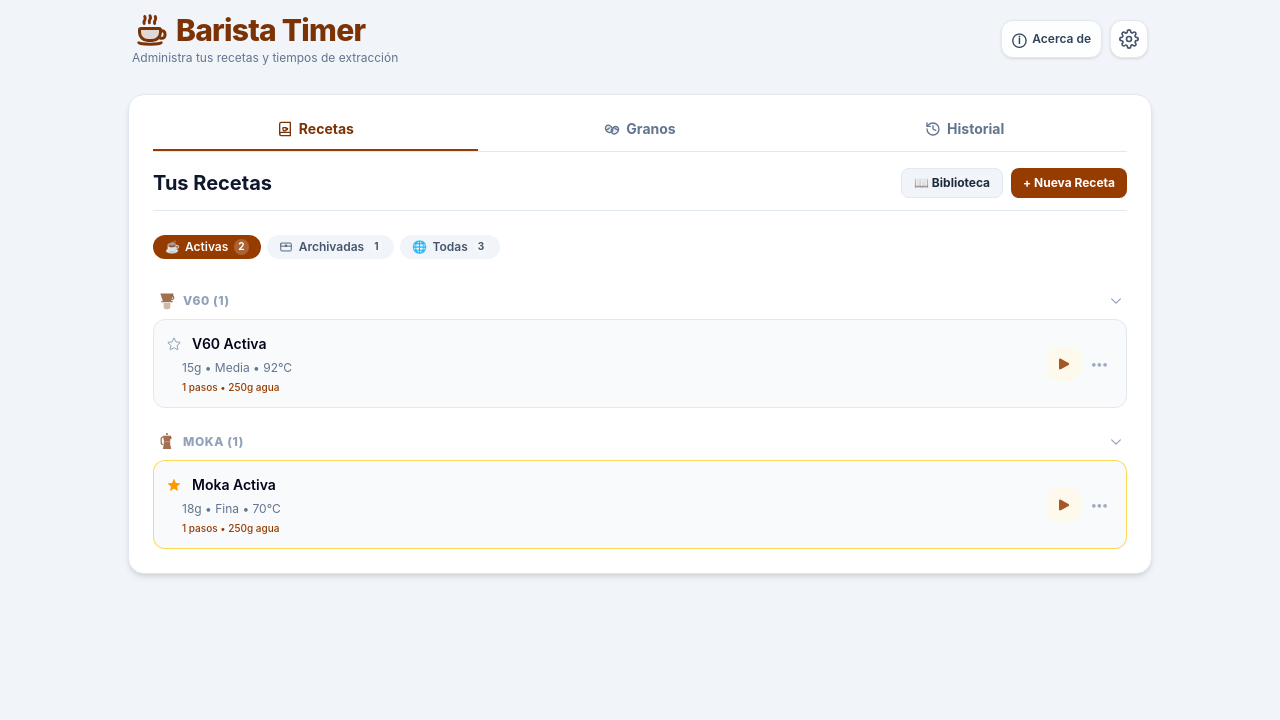
Sistema de Archivado de Recetas › App — Flujo de archivado integral › 12. El undo toast restaura inmediatamente la receta archivada
# Archivar la primera receta
Click the button titled "Más opciones" in the row of "92": (1099, 364) 1085,350 -> 1114,378
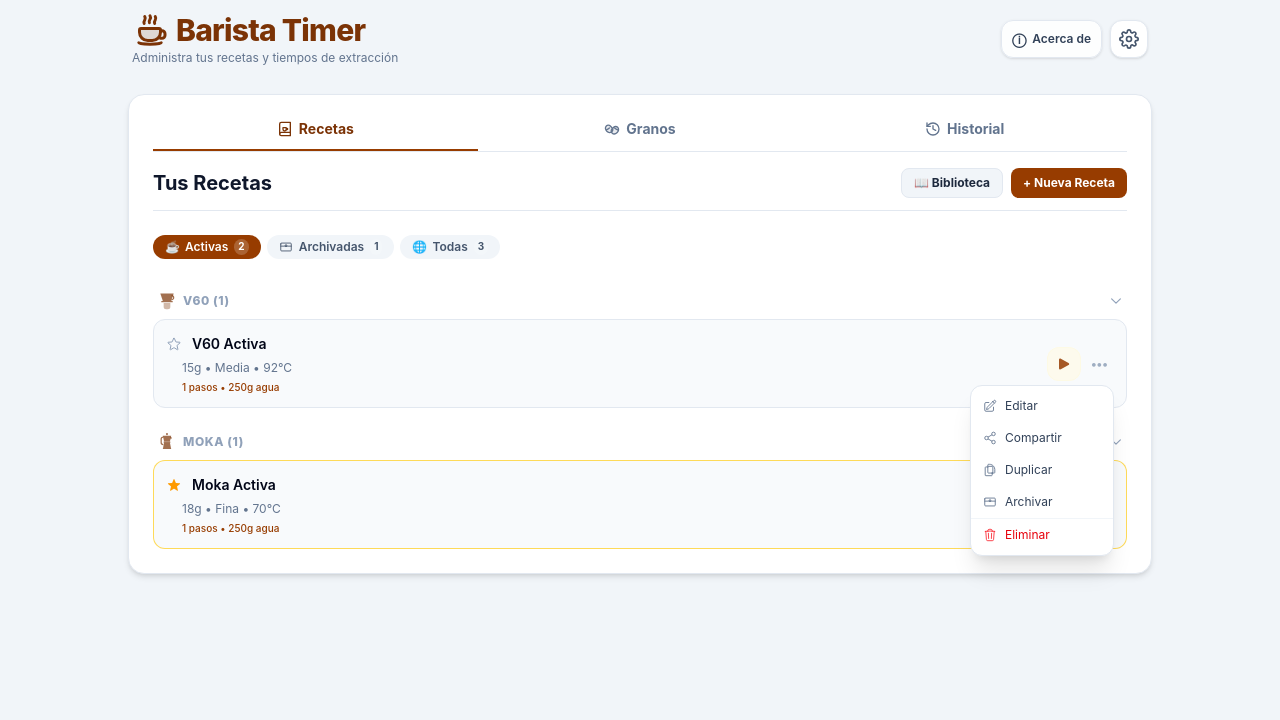
Click the button "Archivar": (1042, 502) 971,486 -> 1113,518
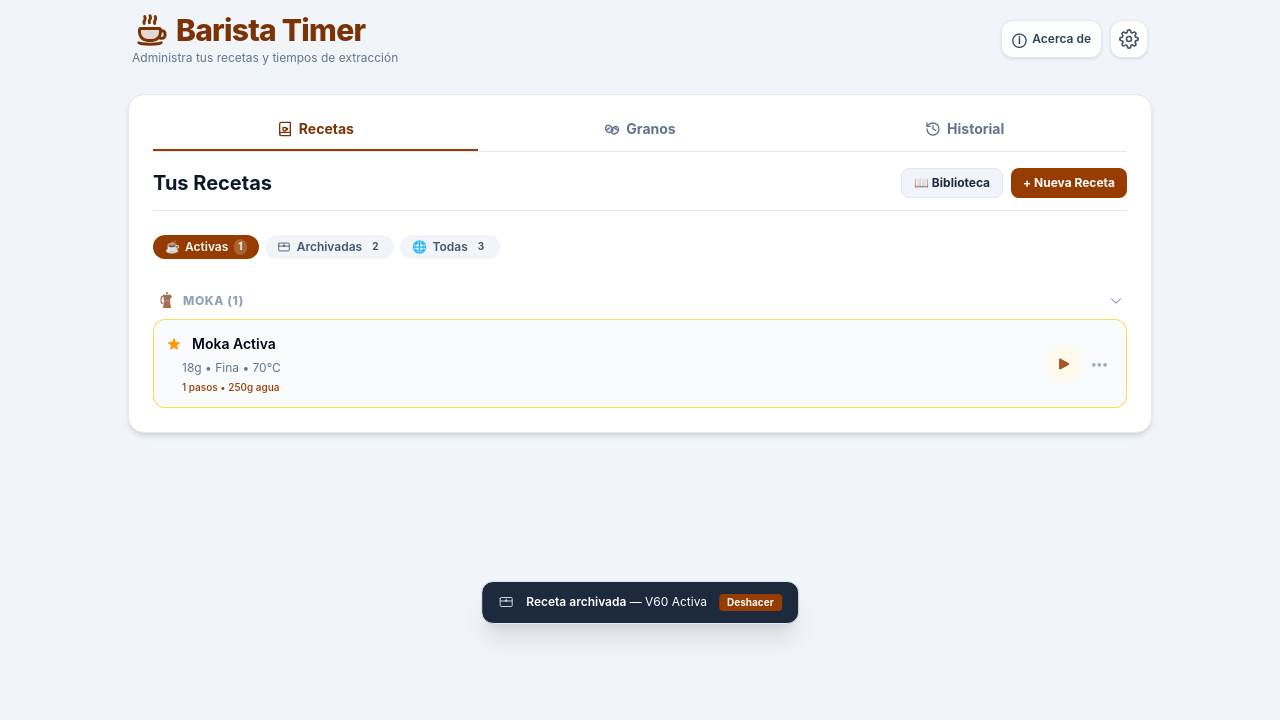
# Hacer clic en "Deshacer" en el toast
Click the button "Deshacer": (750, 602) 719,594 -> 782,611
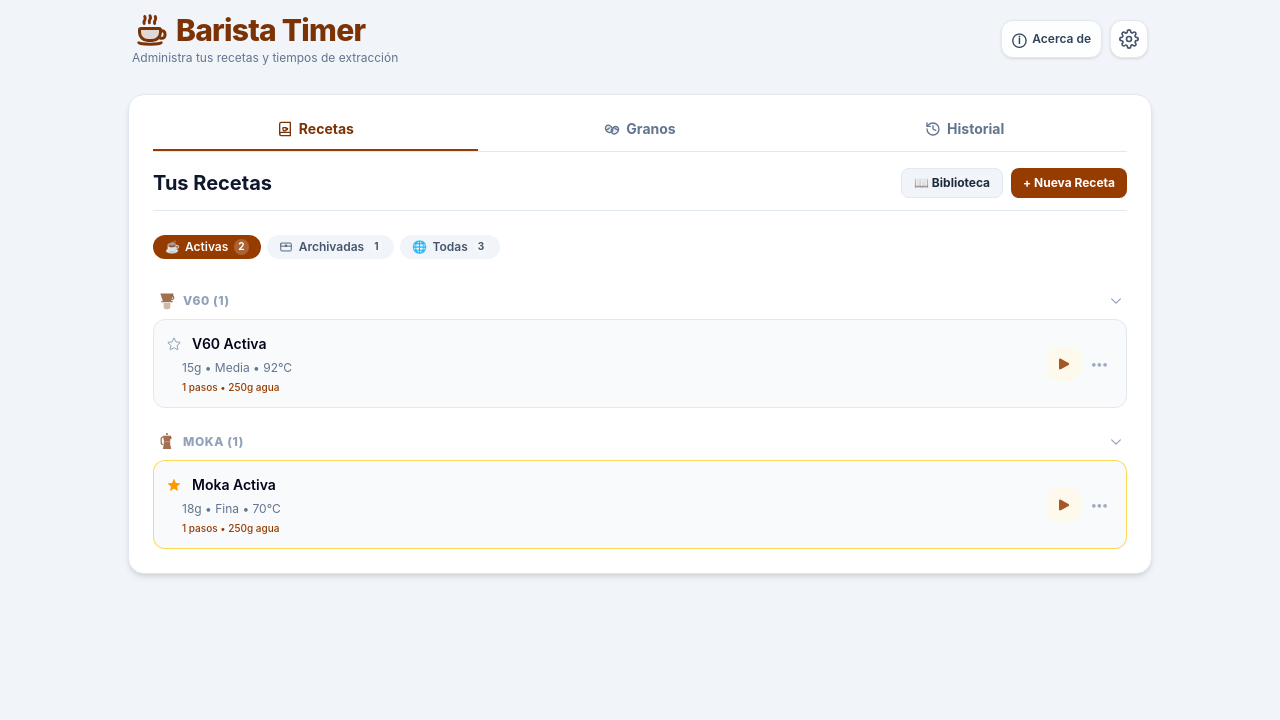
Expected: the text "V60 Activa" is shown, 192,334 -> 266,354
Now the text "Receta archivada" is gone
